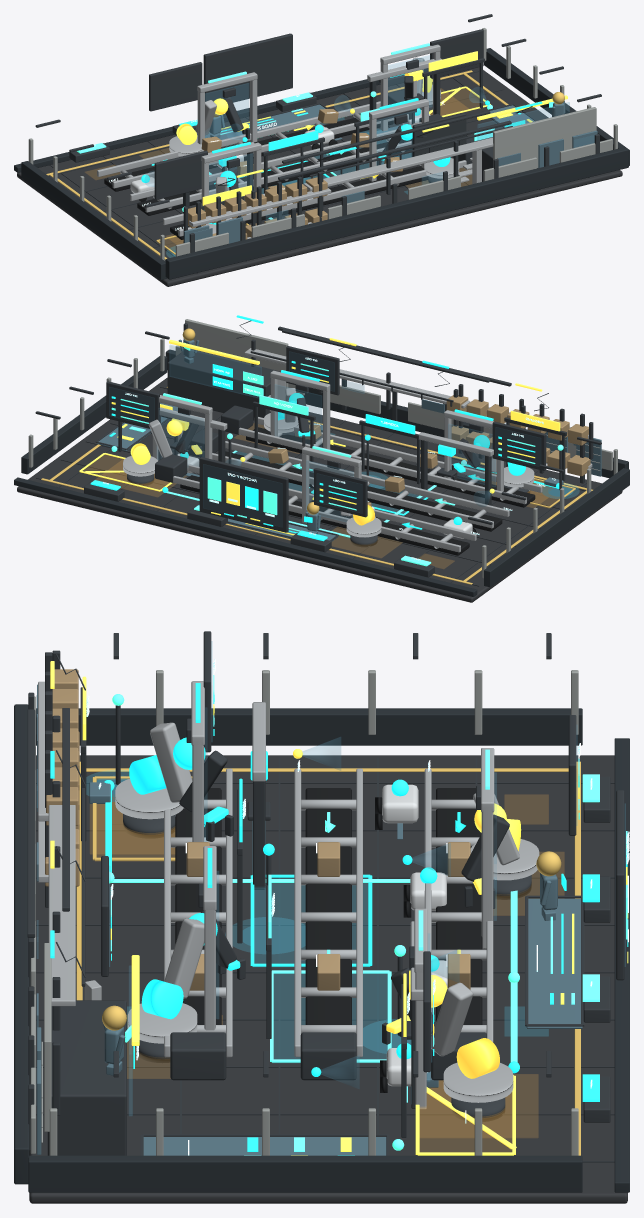
File: digital-twin-factory-blender.glb
3 renders of one model, top to bottom at view 1: azimuth 30°, elevation 25°; view 2: azimuth 150°, elevation 25°; view 3: azimuth 270°, elevation 25°, orthographic. The views are drawn at different scales.
Parts seen in each view (by area): view 1: batched dark anodized machine frame, batched deep industrial wall panels, batched brushed robotics steel, single continuous factory floor slab, batched worn precast concrete shell, batched control room glass, batched muted operations panel blue, batched black conveyor rubber, batched matte encoded packages, batched amber status emissive, batched cyan sensor emissive, batched embedded safety lane paint (+4 smaller); view 2: batched dark anodized machine frame, single continuous factory floor slab, batched brushed robotics steel, batched deep industrial wall panels, batched control room glass, batched worn precast concrete shell, batched black conveyor rubber, batched cyan sensor emissive, batched matte encoded packages, batched amber status emissive, batched green running emissive, batched muted operations panel blue (+3 smaller); view 3: single continuous factory floor slab, batched dark anodized machine frame, batched deep industrial wall panels, batched brushed robotics steel, batched black conveyor rubber, batched muted operations panel blue, batched transparent safety zone, batched cyan sensor emissive, batched transparent process field overlay, batched worn precast concrete shell, batched matte encoded packages, batched amber status emissive (+4 smaller).
Boxes of the visible parts, x1,y1,x2,y2 form: batched dark anodized machine frame: (35,14,601,273); batched deep industrial wall panels: (14,48,629,279); batched brushed robotics steel: (97,44,493,238); single continuous factory floor slab: (17,67,622,286); batched worn precast concrete shell: (28,28,617,260); batched control room glass: (144,55,569,222); batched muted operations panel blue: (184,101,597,243); batched black conveyor rubber: (104,118,428,239); batched matte encoded packages: (183,109,402,243); batched amber status emissive: (176,51,567,205); batched cyan sensor emissive: (141,74,542,224); batched embedded safety lane paint: (46,70,564,259); batched dark anodized machine frame: (35,323,601,586); single continuous factory floor slab: (17,377,622,602); batched brushed robotics steel: (123,348,592,552); batched deep industrial wall panels: (14,349,629,596); batched control room glass: (109,345,535,526); batched worn precast concrete shell: (28,319,617,578); batched black conveyor rubber: (180,427,535,555); batched cyan sensor emissive: (90,315,559,541); batched matte encoded packages: (268,395,590,506); batched amber status emissive: (79,338,560,535); batched green running emissive: (111,342,563,566); batched muted operations panel blue: (96,339,601,541); single continuous factory floor slab: (29,755,627,1203); batched dark anodized machine frame: (27,631,624,1162); batched deep industrial wall panels: (14,704,629,1192); batched brushed robotics steel: (38,681,539,1109); batched black conveyor rubber: (175,788,482,1092); batched muted operations panel blue: (36,684,582,1155); batched transparent safety zone: (90,795,563,1151); batched cyan sensor emissive: (50,683,628,1155); batched transparent process field overlay: (87,770,548,1058); batched worn precast concrete shell: (30,670,578,1155); batched matte encoded packages: (45,669,470,990); batched amber status emissive: (50,661,628,1155).
Bounding box in the file's own units: 11.12 × 2.07 × 6.38.
